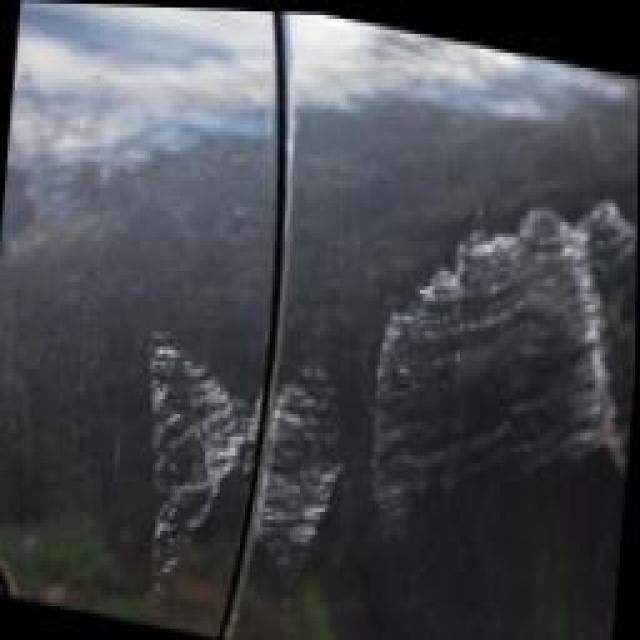Door: (115, 207, 275, 608)
Fender: (250, 113, 639, 639)
